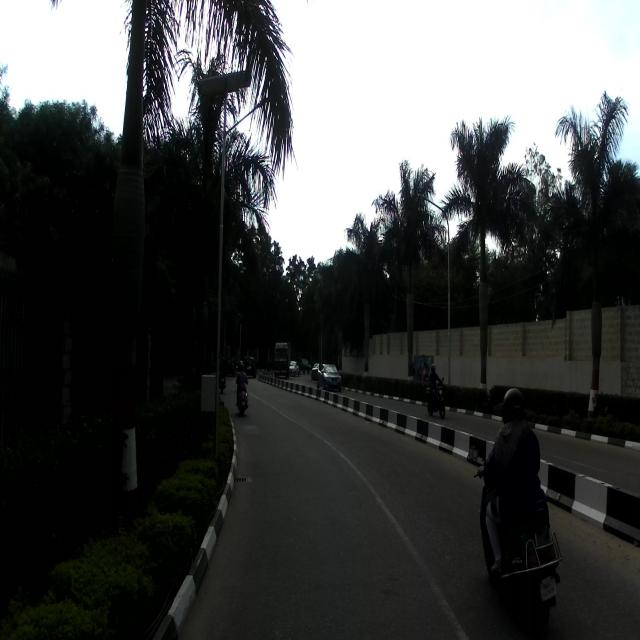scooter: (467, 444, 562, 630)
